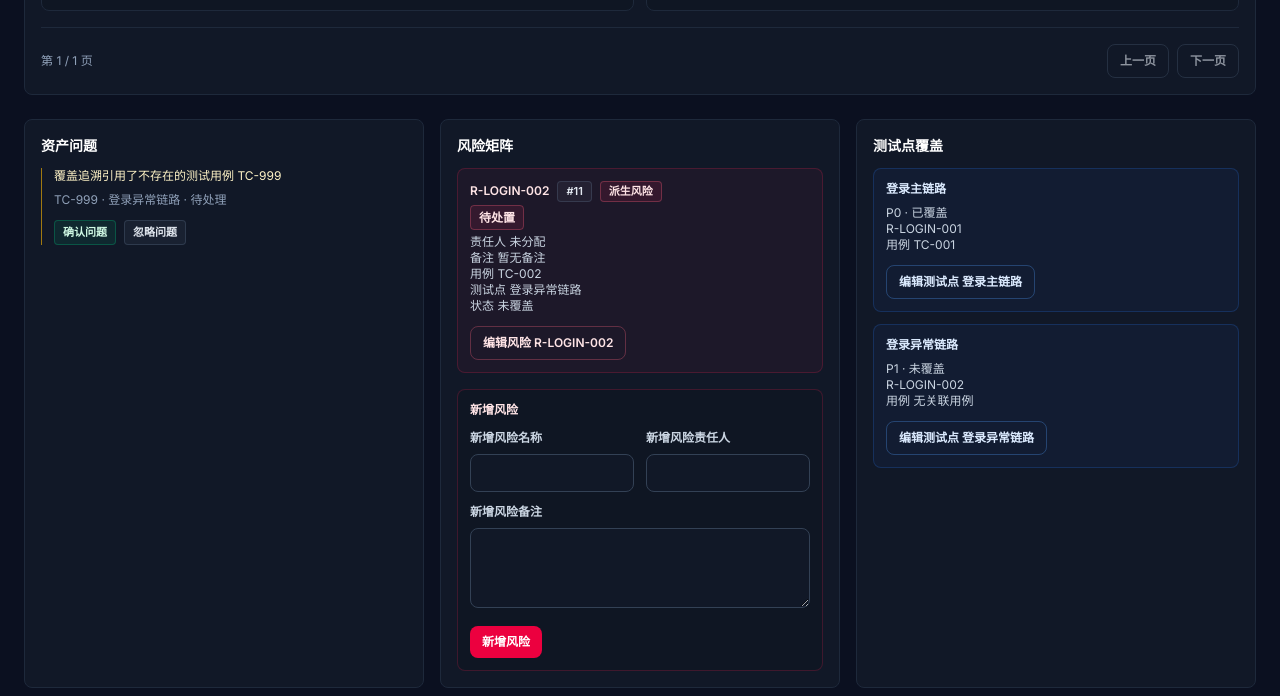
Test: TestAssetsPage › edits a test point and refreshes derived coverage and risk matrix
This screenshot has width=1280, height=696.
(page scrolled)
Step 1. Click the button "编辑测试点 登录异常链路" → (966, 438), box [886,421,1047,455]
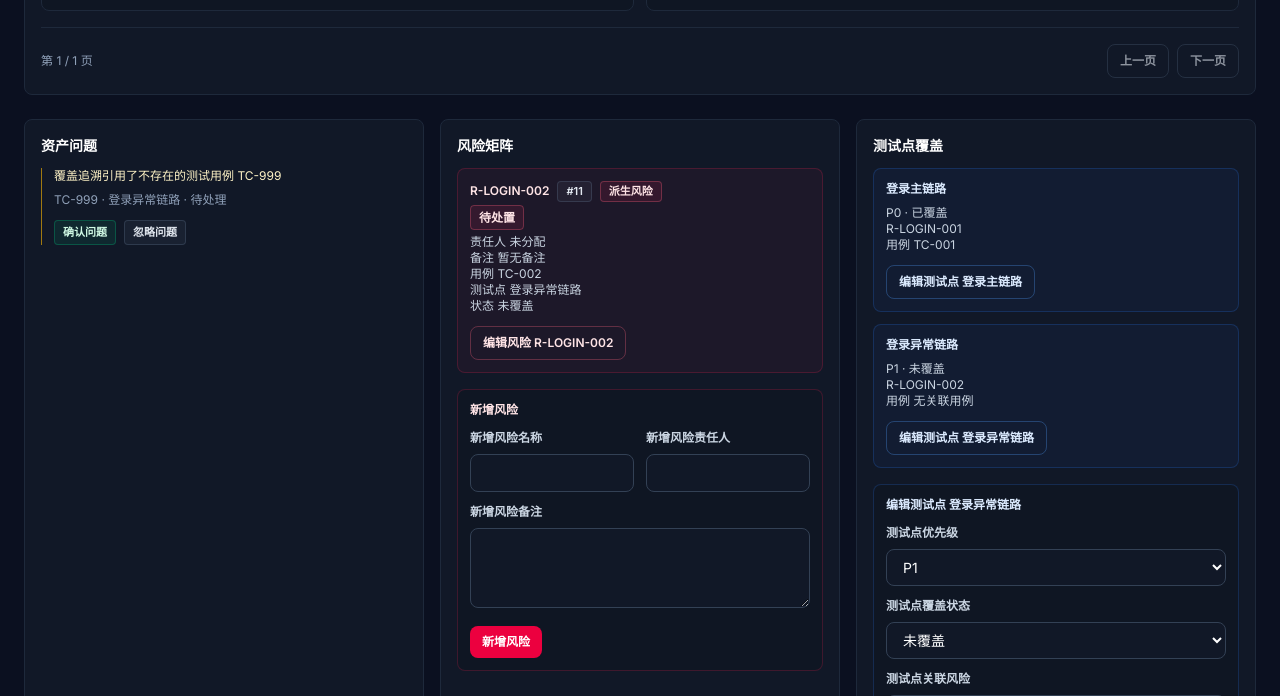
Step 2. Select "P0" in the dropdown labelled "测试点优先级" → (1056, 568), box [886,549,1226,586]
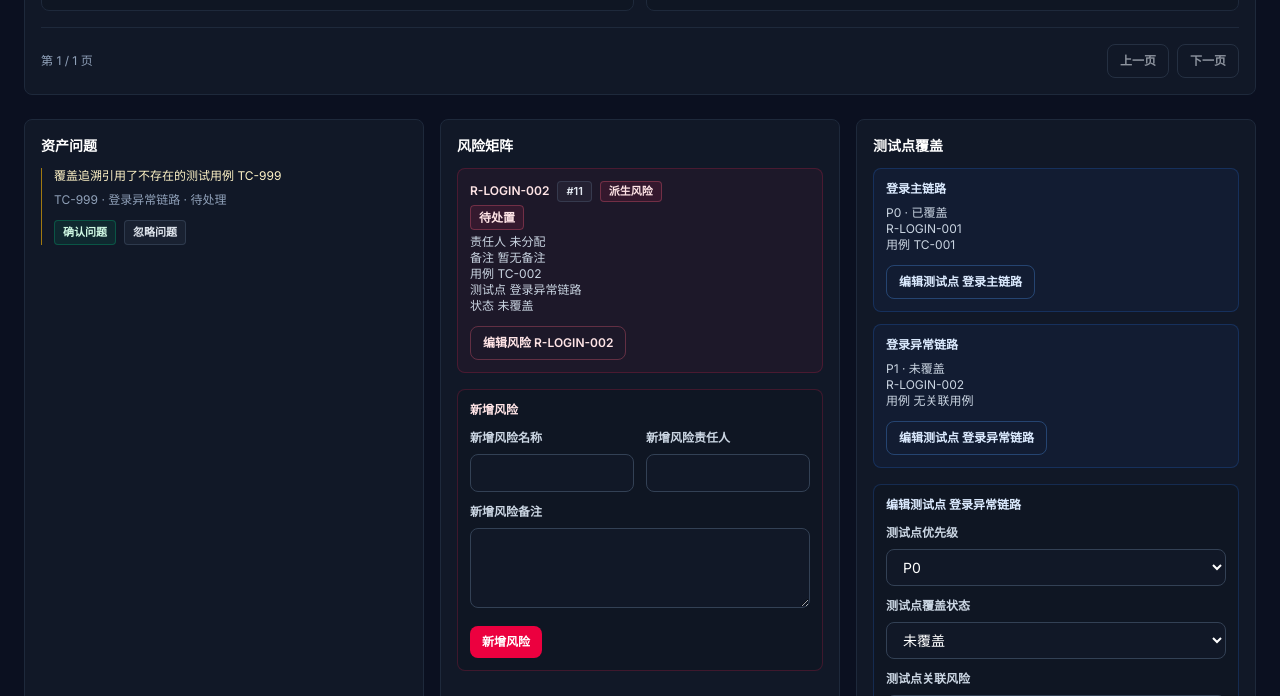
Step 3. Select "已覆盖" in the dropdown labelled "测试点覆盖状态" → (1056, 640), box [886,622,1226,659]
(page scrolled)
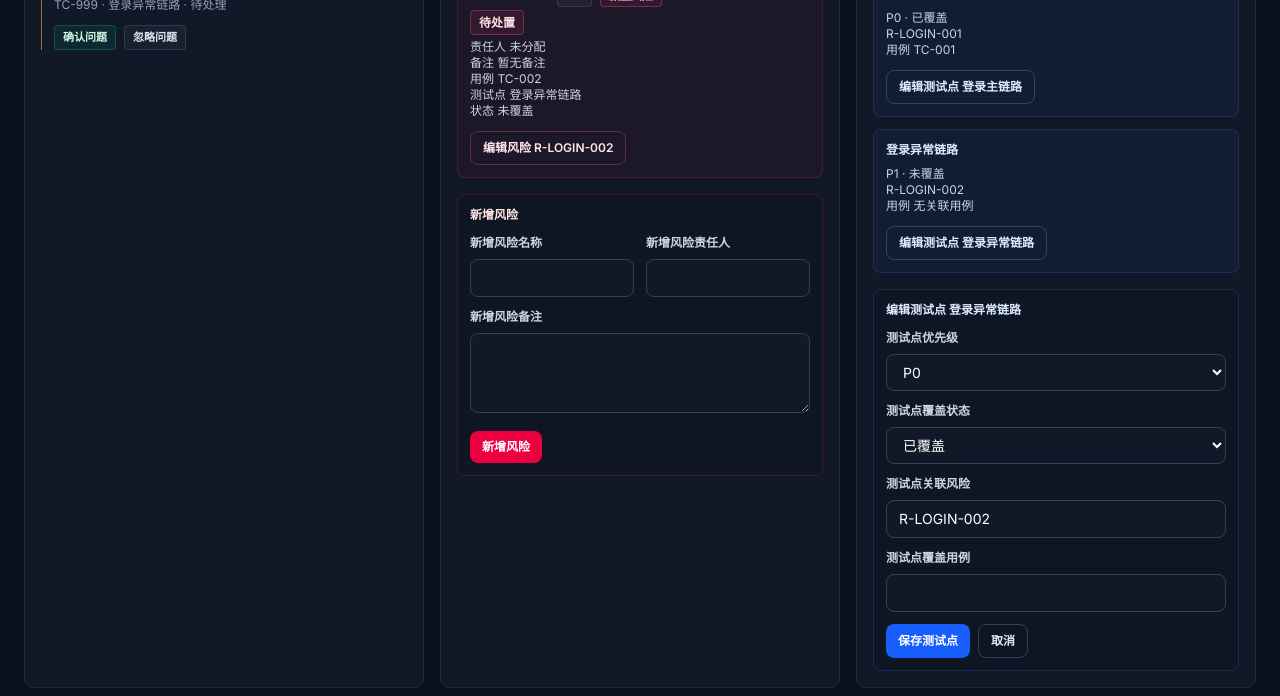
Step 4. Replace the text in the field labelled "测试点关联风险" with "R-LOGIN-LOCK" → (1056, 519), box [886,500,1226,538]
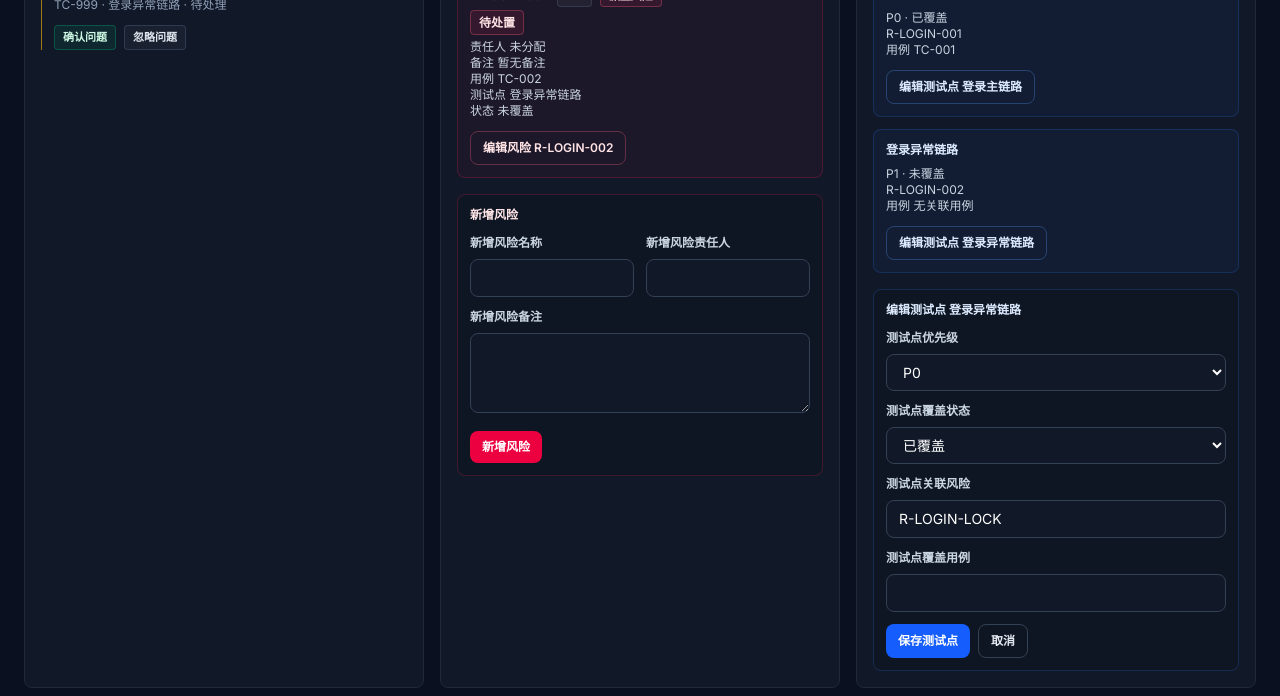
Step 5. Type "TC-002" into the field labelled "测试点覆盖用例" → (1056, 593), box [886,574,1226,612]
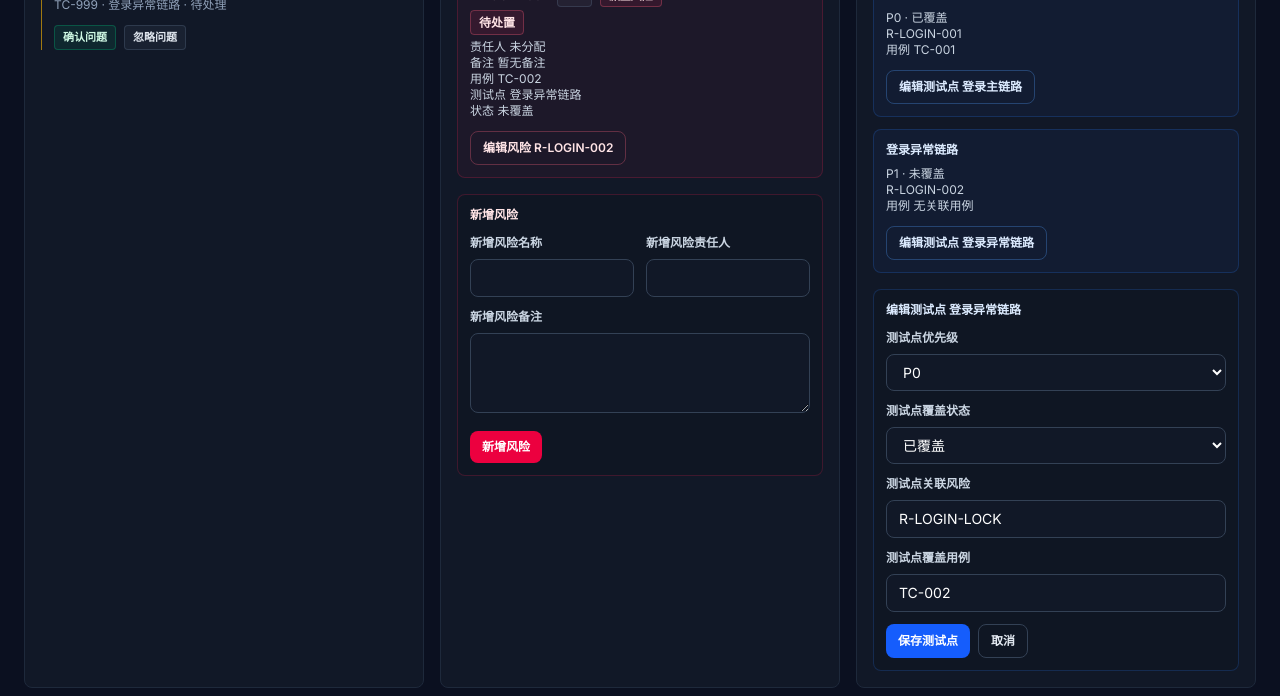
Step 6. Click the button "保存测试点" → (928, 641), box [886,624,970,658]
(page scrolled)
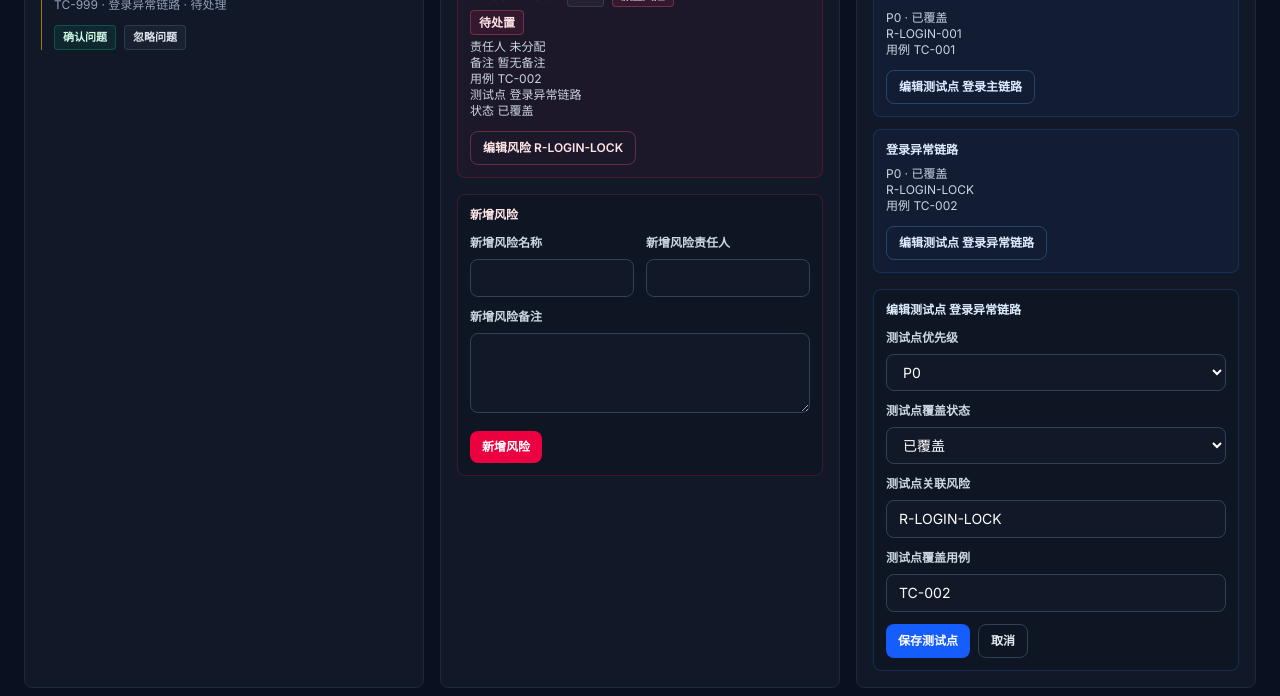
expect the 2nd text "P0 · 已覆盖" is shown: met, box [886,166,948,181]
expect the 2nd text "用例 TC-002" is shown: met, box [886,198,958,213]
